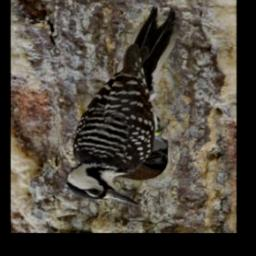Woodpecker: (64, 6, 180, 206)
